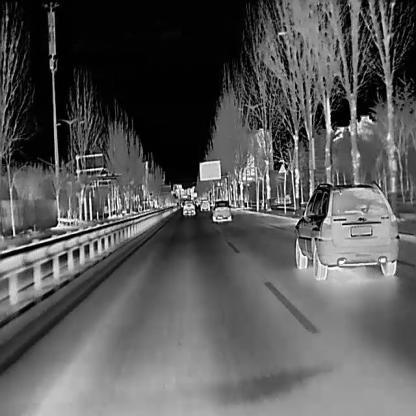car: (294, 179, 398, 280), (211, 199, 232, 221), (182, 199, 195, 215), (199, 199, 210, 210)
